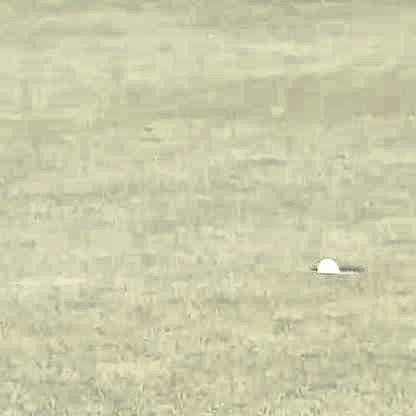golfball: (314, 254, 337, 272)
